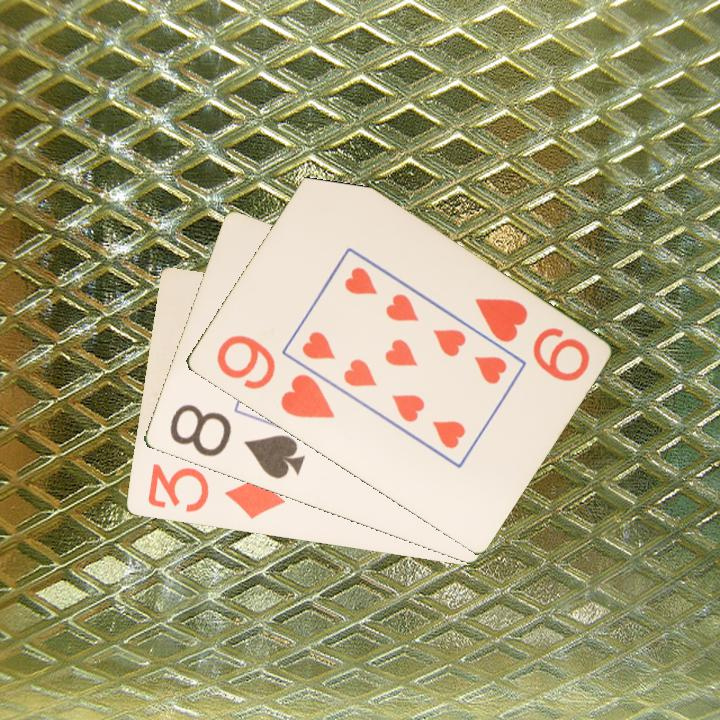3d: (143, 461, 288, 522)
8s: (165, 401, 307, 482)
9h: (212, 331, 337, 422), (470, 294, 593, 385)
